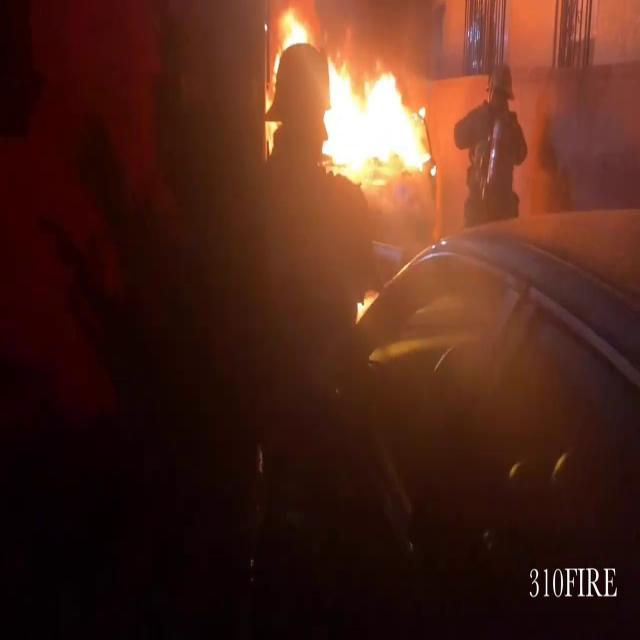Fire: (316, 48, 436, 187), (262, 2, 306, 141)
